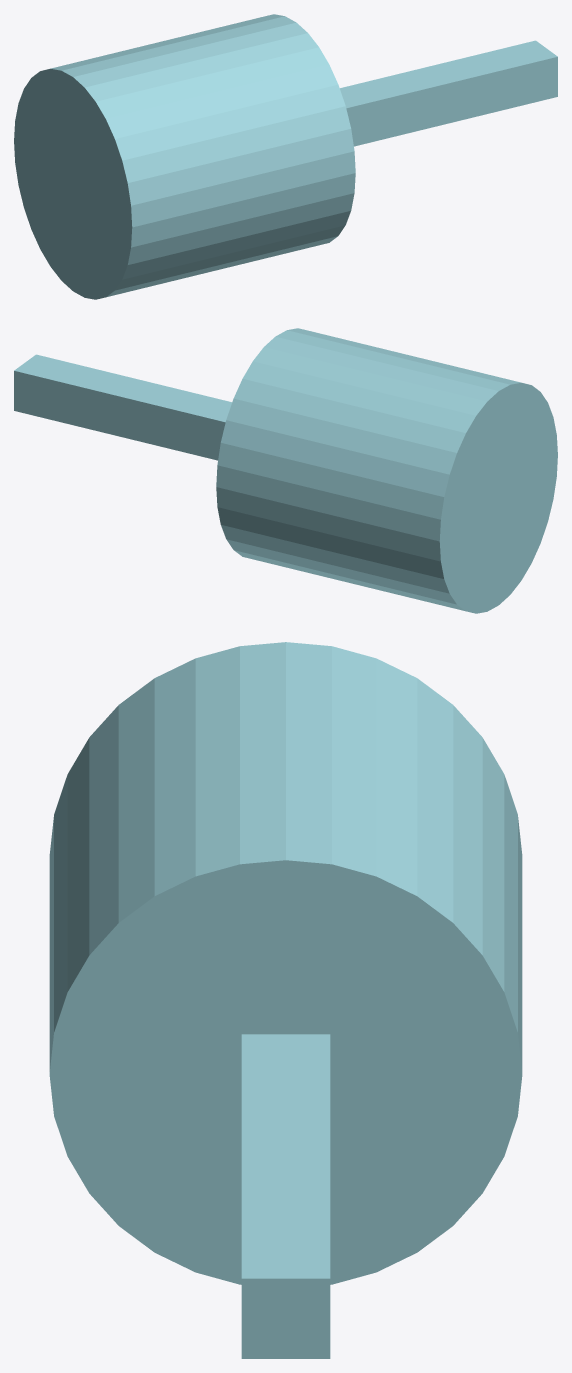
The model's file is cylinder_screwdriver_v3012.obj.
The picture shows the model from 3 angles, top to bottom: view 1: azimuth 30°, elevation 25°; view 2: azimuth 150°, elevation 25°; view 3: azimuth 270°, elevation 25°; orthographic projection. The views are drawn at different scales.
Size of the model in its own units: 0.1585 by 0.0685 by 0.0685.
Materials: 1 (1 with a texture image).
